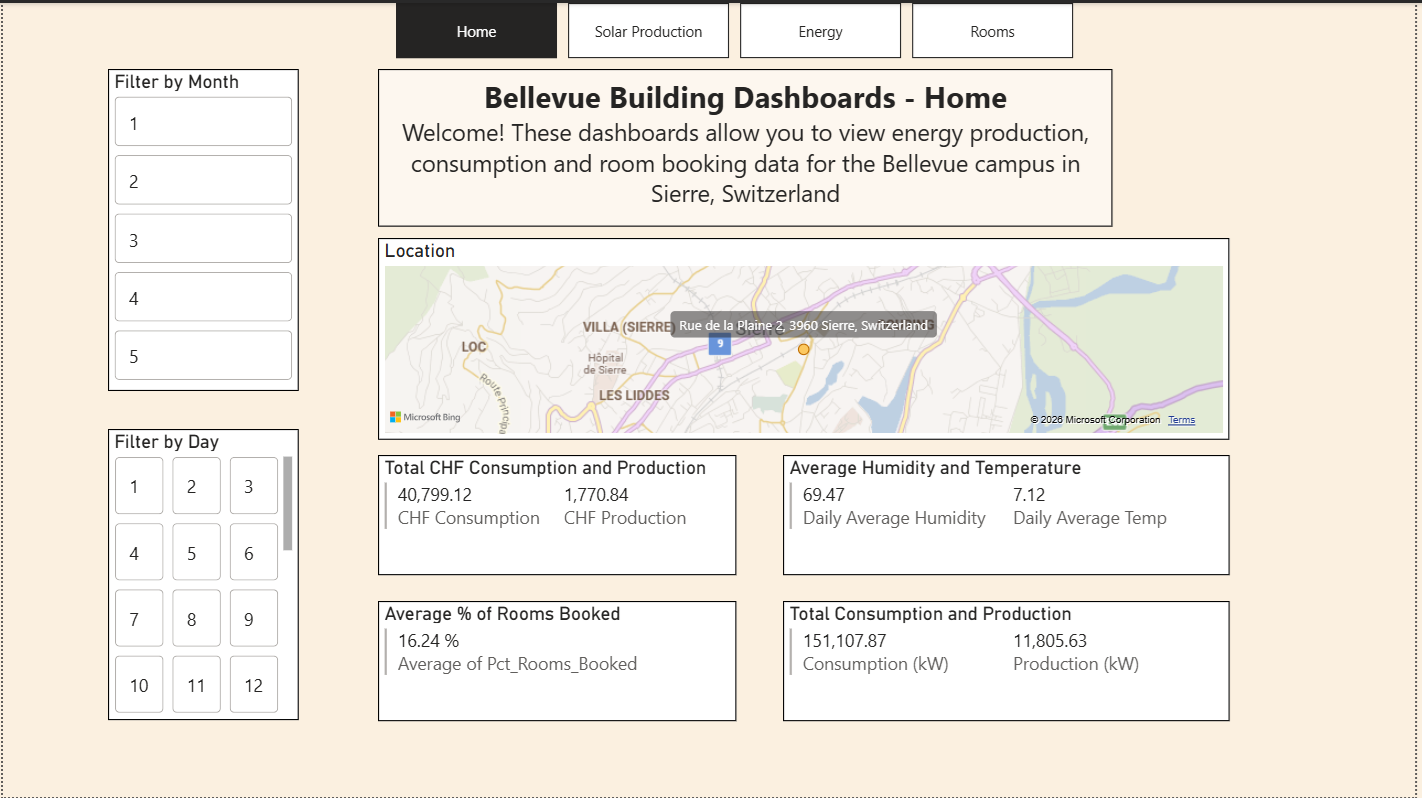

The page's visual inventory and layout, read from the dashboard file:
{"tool":"powerbi","page":{"name":"Home","canvas":[1280,720],"ordinal":0},"visuals":[{"type":"pageNavigator","box":[356.7,0,617.8,50],"z":0},{"type":"textbox","box":[340.1,59.8,666.5,143.3],"z":1000},{"type":"multiRowCard","title":"Total Consumption and Production","fields":{"Values":["Power_FactTable.Consumption (kW)","Power_FactTable.Production (kW)"]},"box":[707.2,542.3,405.1,108.7],"z":2000},{"type":"multiRowCard","title":"Total  CHF Consumption and Production","fields":{"Values":["Power_FactTable.CHF Consumption","Power_FactTable.CHF Production"]},"box":[340.3,409.8,325,108.7],"z":3000},{"type":"multiRowCard","title":"Average Humidity and Temperature","fields":{"Values":["Weather_FactTable.Daily Average Humidity","Weather_FactTable.Daily Average Temp"]},"box":[707.2,409.8,405.1,108.7],"z":4000},{"type":"advancedSlicerVisual","fields":{"Values":["DimTime.Month"]},"box":[95.7,60.3,173.2,291.8],"z":6000},{"type":"advancedSlicerVisual","fields":{"Values":["DimTime.Day"]},"box":[95.6,386.7,173.3,264.4],"z":7000},{"type":"multiRowCard","title":"Average % of Rooms Booked","fields":{"Values":["Avg(Rooms_FactTable.Pct_Rooms_Booked)"]},"box":[340.3,542.3,325,108.7],"z":8000},{"type":"map","fields":{"Category":["BuildingLocation.Location"]},"box":[340.3,213.5,772,183],"z":9000}]}

Visuals, with their boxes in screenshot pixels (x1, y1, x2, y2), scaled from the page's 1280x720 canvas onto the 1422x798 screenshot:
pageNavigator: select_region(396, 0, 1083, 55)
textbox: select_region(378, 66, 1118, 225)
"Total Consumption and Production" multiRowCard: select_region(786, 601, 1236, 722)
"Total  CHF Consumption and Production" multiRowCard: select_region(378, 454, 739, 575)
"Average Humidity and Temperature" multiRowCard: select_region(786, 454, 1236, 575)
advancedSlicerVisual - DimTime.Month: select_region(106, 67, 299, 390)
advancedSlicerVisual - DimTime.Day: select_region(106, 429, 299, 722)
"Average % of Rooms Booked" multiRowCard: select_region(378, 601, 739, 722)
map - BuildingLocation.Location: select_region(378, 237, 1236, 439)
